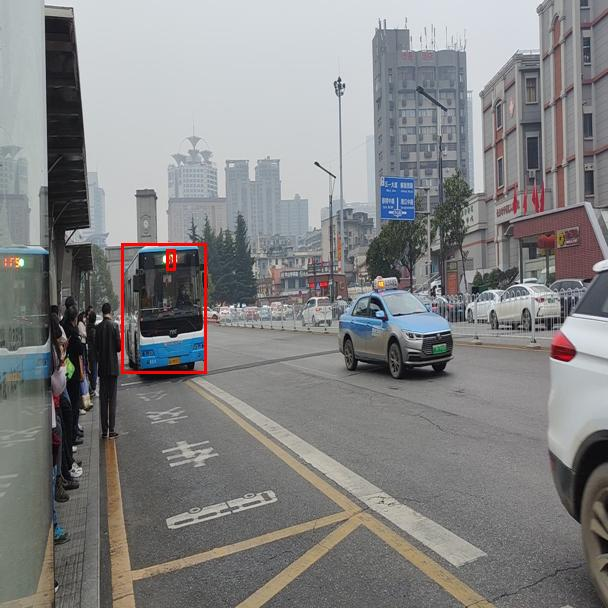bus: (121, 243, 206, 373)
screen: (166, 249, 175, 270)
